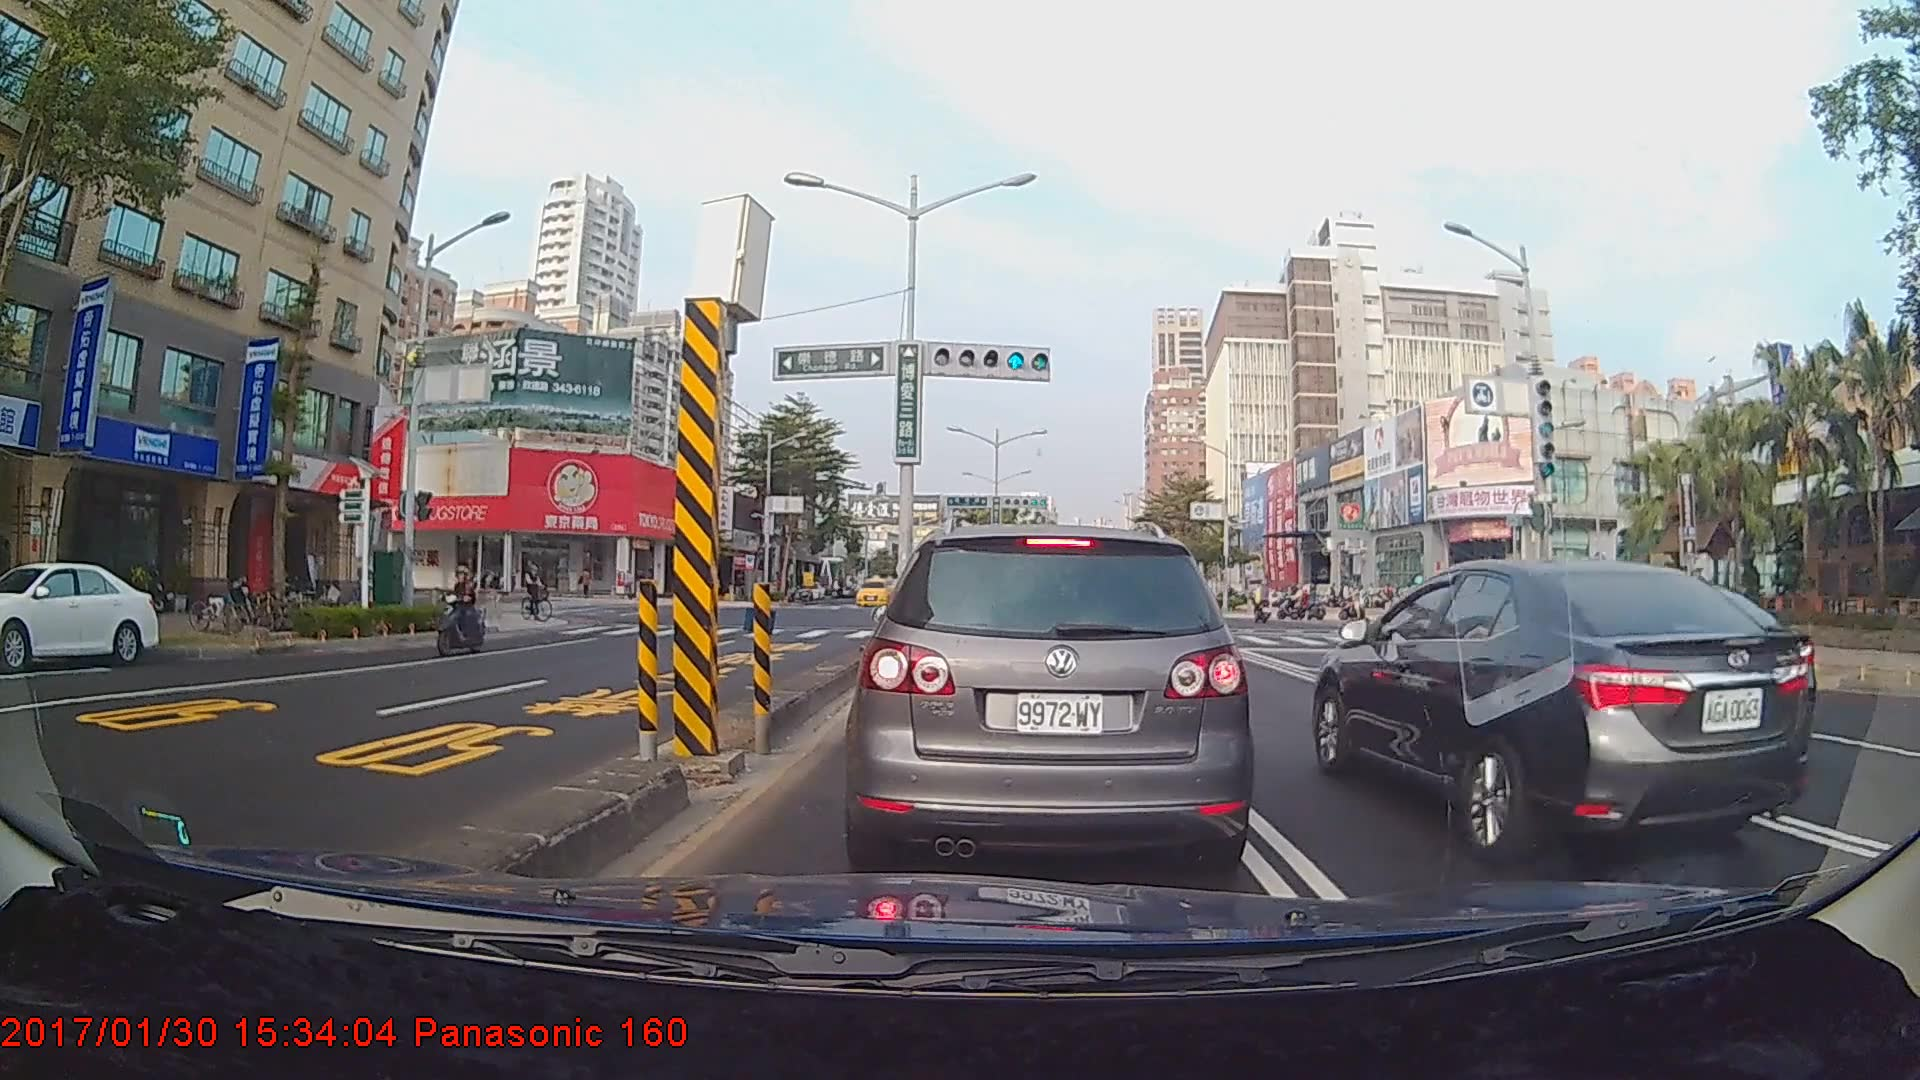rider: (429, 564, 490, 660), (518, 559, 561, 623), (1246, 574, 1274, 631)
vehicle: (1319, 550, 1825, 868), (861, 521, 1246, 875), (0, 561, 162, 671), (855, 577, 892, 606)
